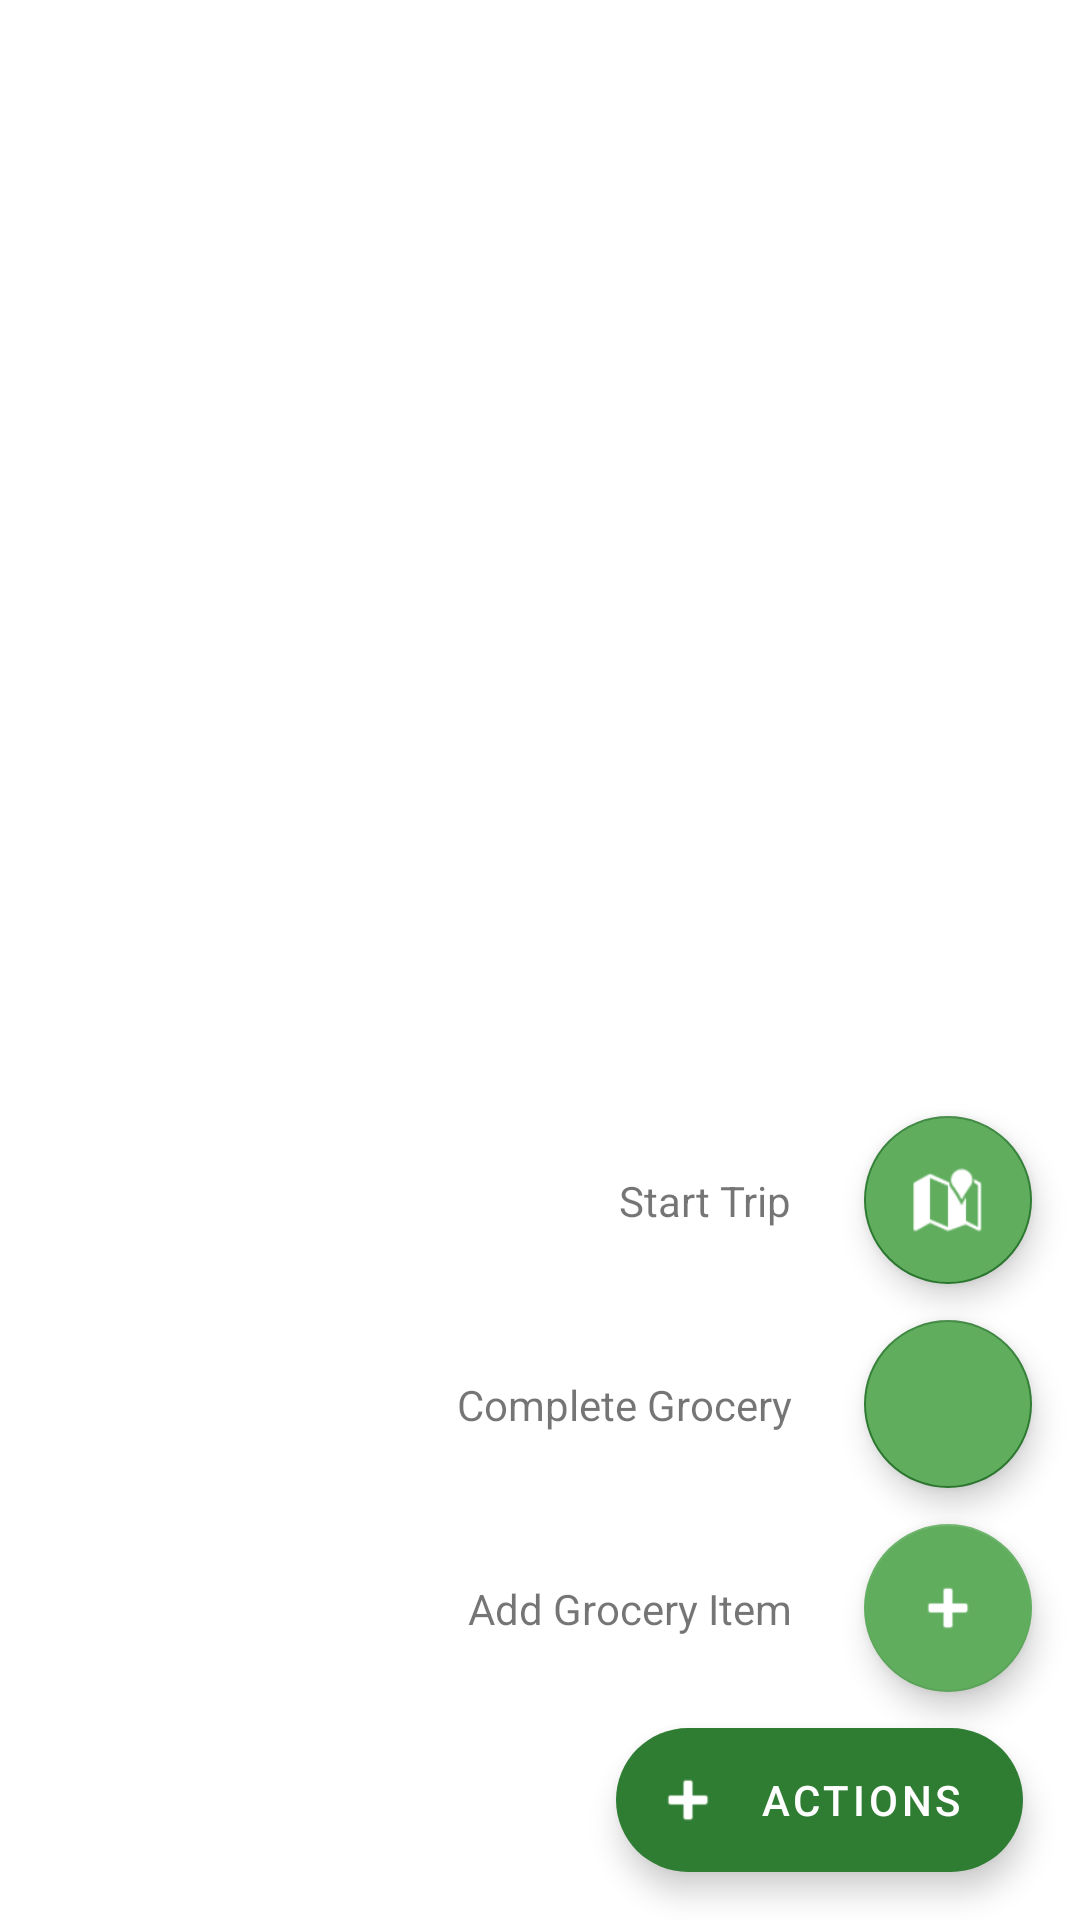

Screen size 1080w x 1920h. Icon name, then its box in pixels as (x1, y1, x2, y2):
map: (864, 1116, 1032, 1284)
